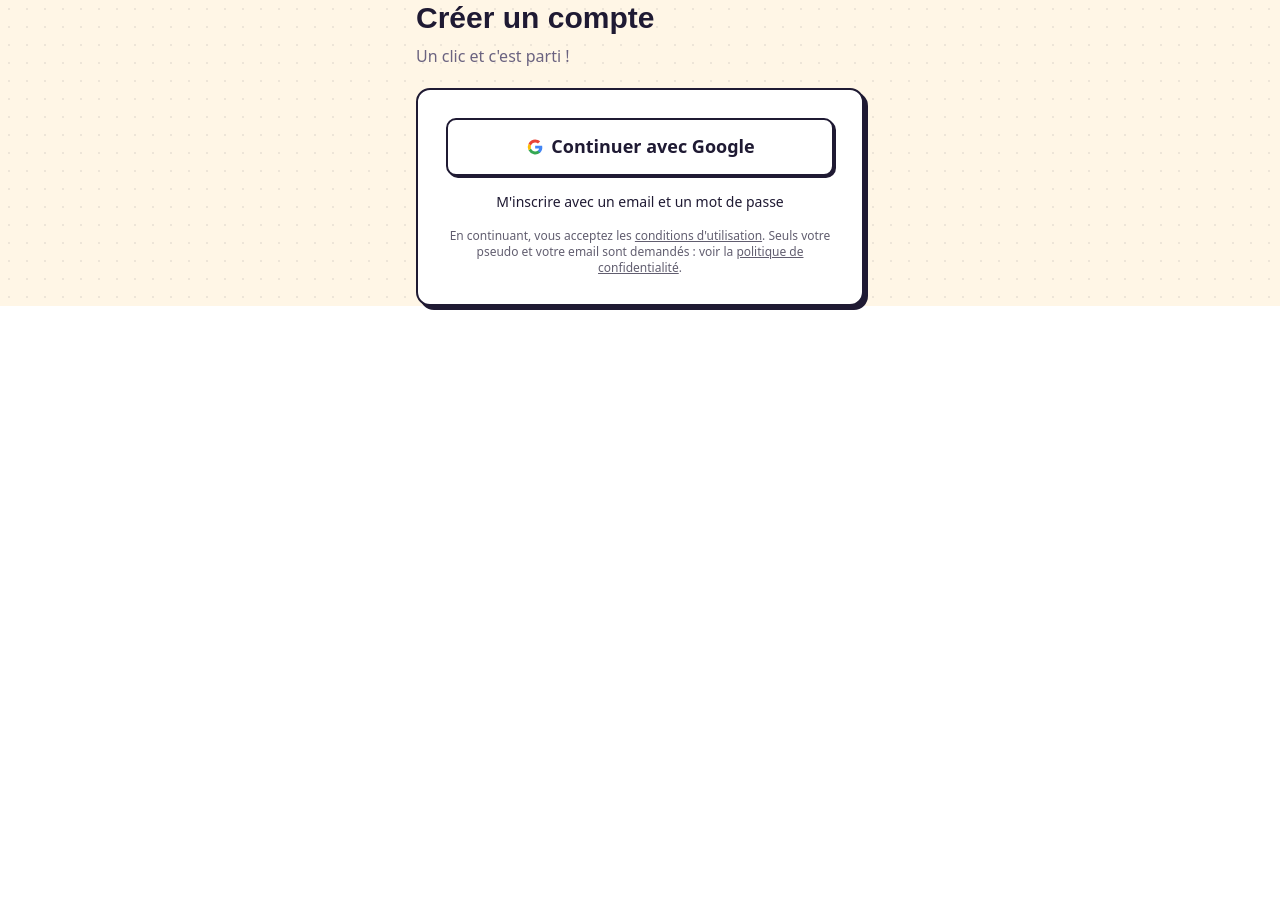
Test: inscription d'un invité › propose à l'invité de garder son pseudo, sans lien vers la connexion
Step 1. Click the button "M'inscrire avec un email et un mot de passe" → (640, 202), box [446,192,834,212]
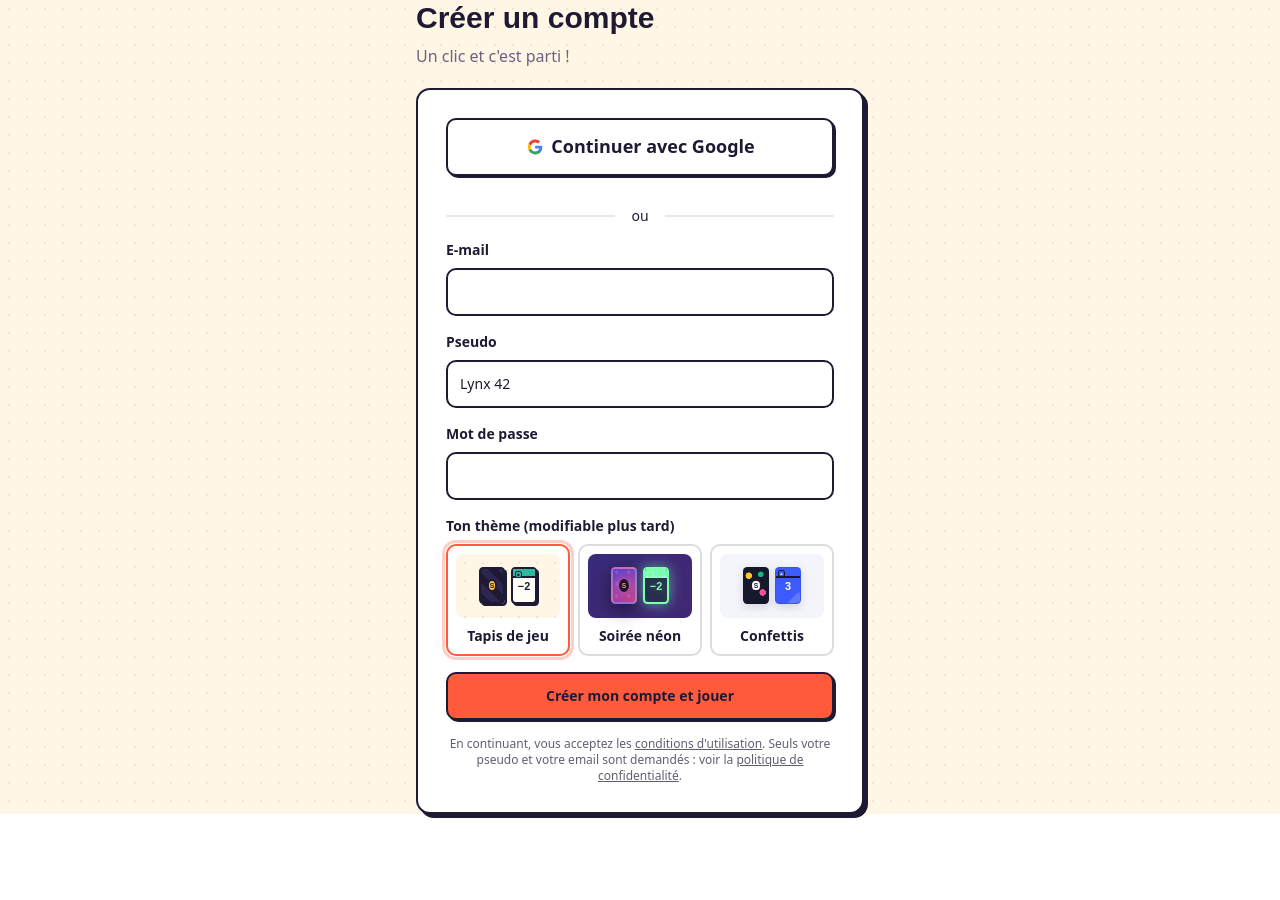
Check: the field labelled "Pseudo" holds "Lynx 42", box [446,360,834,408]
